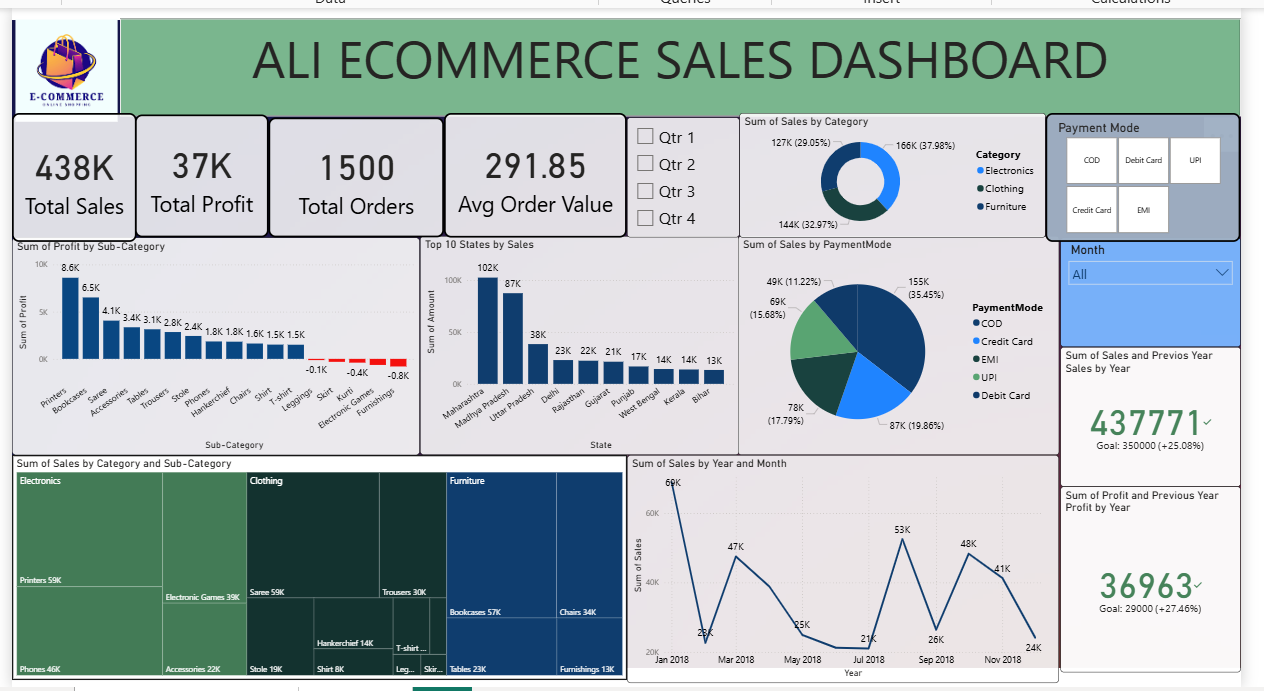

The page's visual inventory and layout, read from the dashboard file:
{"tool":"powerbi","page":{"name":"SALES DASHBOARD","canvas":[1900,1050],"ordinal":0},"visuals":[{"type":"columnChart","title":"Top 10 States by Sales","fields":{"Category":["Orders.State"],"Y":["Sum(Details.Amount)"]},"box":[630.9,354.9,473.2,336.3],"z":0},{"type":"pieChart","fields":{"Category":["Details.PaymentMode"],"Y":["Sum(Details.Amount)"]},"box":[1104.1,354.9,468.6,336.3],"z":1000},{"type":"treemap","fields":{"Group":["Details.Category"],"Details":["Details.Sub-Category"],"Values":["Sum(Details.Amount)"]},"box":[0,686.6,879.1,352.6],"z":2000},{"type":"columnChart","fields":{"Category":["Details.Sub-Category"],"Y":["Sum(Details.Profit)"]},"box":[0,354.9,630.9,336.3],"z":3000},{"type":"slicer","title":"Month","fields":{"Values":["Orders.Month Name"]},"box":[1672.5,169.3,227.3,185.6],"z":4000},{"type":"textbox","box":[167,16.2,1732.8,150.8],"z":5000},{"type":"image","box":[0,9.3,167,178.6],"z":6000},{"type":"lineChart","fields":{"Y":["Sum(Details.Amount)"],"Category":["Orders.Order Date.Variation.Date Hierarchy.Year","Orders.Order Date.Variation.Date Hierarchy.Month"]},"box":[879.1,686.6,693.6,357.2],"z":7000},{"type":"donutChart","fields":{"Category":["Details.Category"],"Y":["Sum(Details.Amount)"]},"box":[1572.7,354.9,327.1,336.3],"z":8000},{"type":"card","fields":{"Values":["Sum(Details.Amount)"]},"box":[0,169.3,287.6,190.2],"z":9000},{"type":"card","fields":{"Values":["Sum(Details.Profit)"]},"box":[287.6,169.3,287.6,190.2],"z":10000},{"type":"card","fields":{"Values":["CountNonNull(Details.Order ID)"]},"box":[575.3,167,292.3,190.2],"z":11000},{"type":"slicer","fields":{"Values":["Details.PaymentMode"]},"box":[1357,164.7,315.5,194.8],"z":12000},{"type":"slicer","fields":{"Values":["Orders.Order Date.Variation.Date Hierarchy.Quarter"]},"box":[1169.1,169.3,187.9,185.6],"z":13000},{"type":"kpi","fields":{"Goal":["Orders.Previos Year Sales"],"Indicator":["Sum(Details.Amount)"],"TrendLine":["Orders.Order Date.Variation.Date Hierarchy.Year"]},"box":[1572.7,865.2,327.1,174],"z":14000},{"type":"kpi","fields":{"Indicator":["Sum(Details.Profit)"],"Goal":["Orders.Previous Year Profit"],"TrendLine":["Orders.Order Date.Variation.Date Hierarchy.Year"]},"box":[1572.7,686.6,327.1,178.6],"z":15000},{"type":"card","fields":{"Values":["Orders.Average Order Value"]},"box":[867.5,164.7,301.6,192.5],"z":16000}]}

Visuals, with their boxes on the page's 1900x1050 design canvas (x1, y1, x2, y2). These are canvas units, not pixel positions in the 1264x691 screenshot, which may show the page scaled, cropped or inside an application window:
"Top 10 States by Sales" columnChart: box=[631, 355, 1104, 691]
pieChart - Details.PaymentMode x Sum(Details.Amount): box=[1104, 355, 1573, 691]
treemap - Details.Category x Details.Sub-Category: box=[0, 687, 879, 1039]
columnChart - Details.Sub-Category x Sum(Details.Profit): box=[0, 355, 631, 691]
"Month" slicer: box=[1672, 169, 1900, 355]
textbox: box=[167, 16, 1900, 167]
image: box=[0, 9, 167, 188]
lineChart - Sum(Details.Amount) x Orders.Order Date.Variation.Date Hierarchy.Year: box=[879, 687, 1573, 1044]
donutChart - Details.Category x Sum(Details.Amount): box=[1573, 355, 1900, 691]
card - Sum(Details.Amount): box=[0, 169, 288, 360]
card - Sum(Details.Profit): box=[288, 169, 575, 360]
card - CountNonNull(Details.Order ID): box=[575, 167, 868, 357]
slicer - Details.PaymentMode: box=[1357, 165, 1672, 360]
slicer - Orders.Order Date.Variation.Date Hierarchy.Quarter: box=[1169, 169, 1357, 355]
kpi - Orders.Previos Year Sales x Sum(Details.Amount): box=[1573, 865, 1900, 1039]
kpi - Sum(Details.Profit) x Orders.Previous Year Profit: box=[1573, 687, 1900, 865]
card - Orders.Average Order Value: box=[868, 165, 1169, 357]
